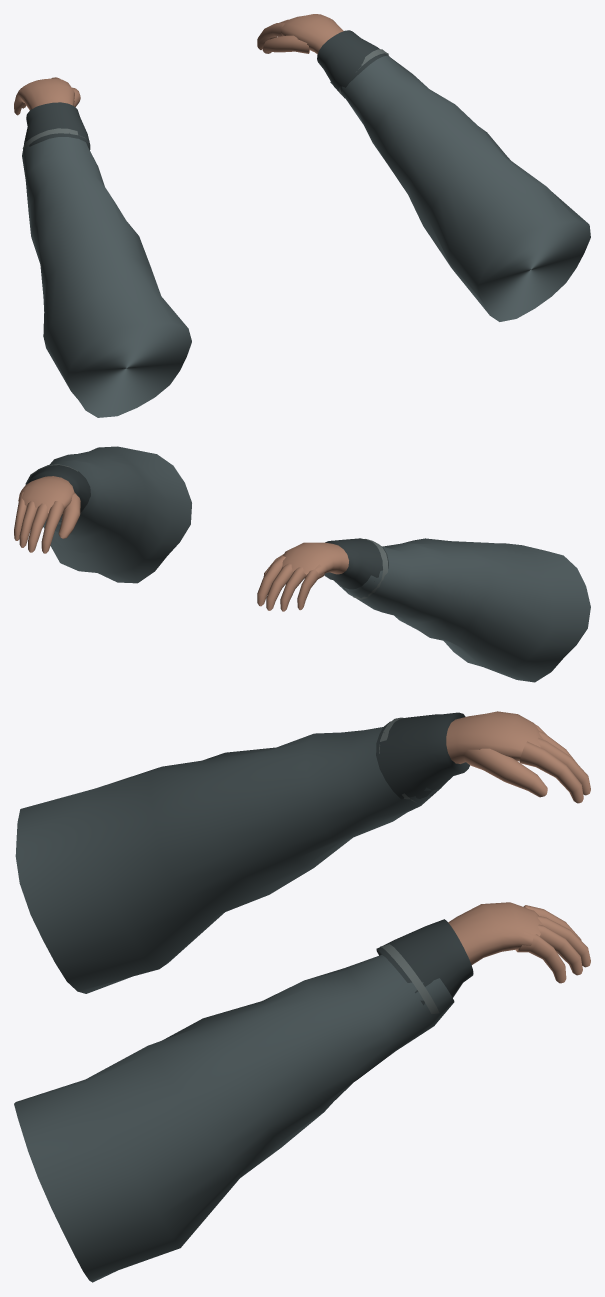
Rendered from brazos.glb.
The picture shows the model from 3 angles, top to bottom: view 1: azimuth 30°, elevation 25°; view 2: azimuth 150°, elevation 25°; view 3: azimuth 270°, elevation 25°; orthographic projection. The views are drawn at different scales.
Visible parts, largest first — view 1: brazo_derecho, brazo_izquierdo; view 2: brazo_izquierdo, brazo_derecho; view 3: brazo_derecho, brazo_izquierdo.
Part boxes in pixels (x1,y1,x2,y2): brazo_derecho: (257, 14, 590, 321); brazo_izquierdo: (14, 77, 191, 417); brazo_izquierdo: (257, 538, 590, 682); brazo_derecho: (14, 446, 191, 583); brazo_derecho: (14, 902, 590, 1282); brazo_izquierdo: (15, 711, 590, 993).
Size of the model in its own units: 0.9656 by 0.3845 by 0.6268.
